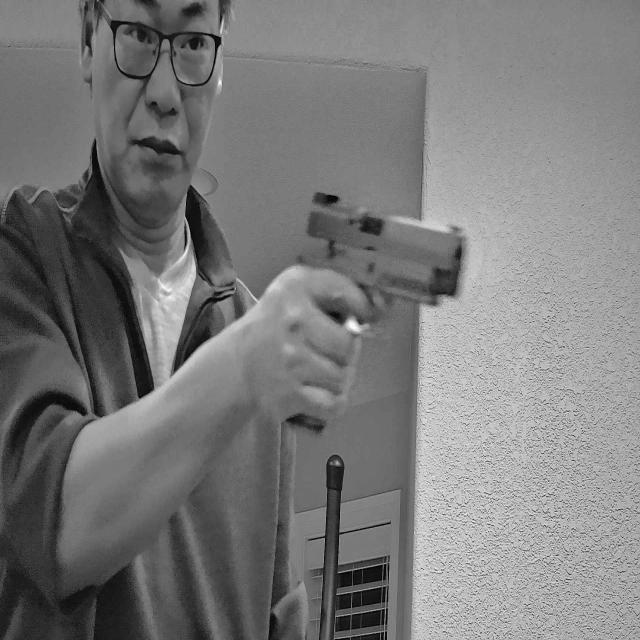Hand-Gun: (216, 140, 485, 516)
